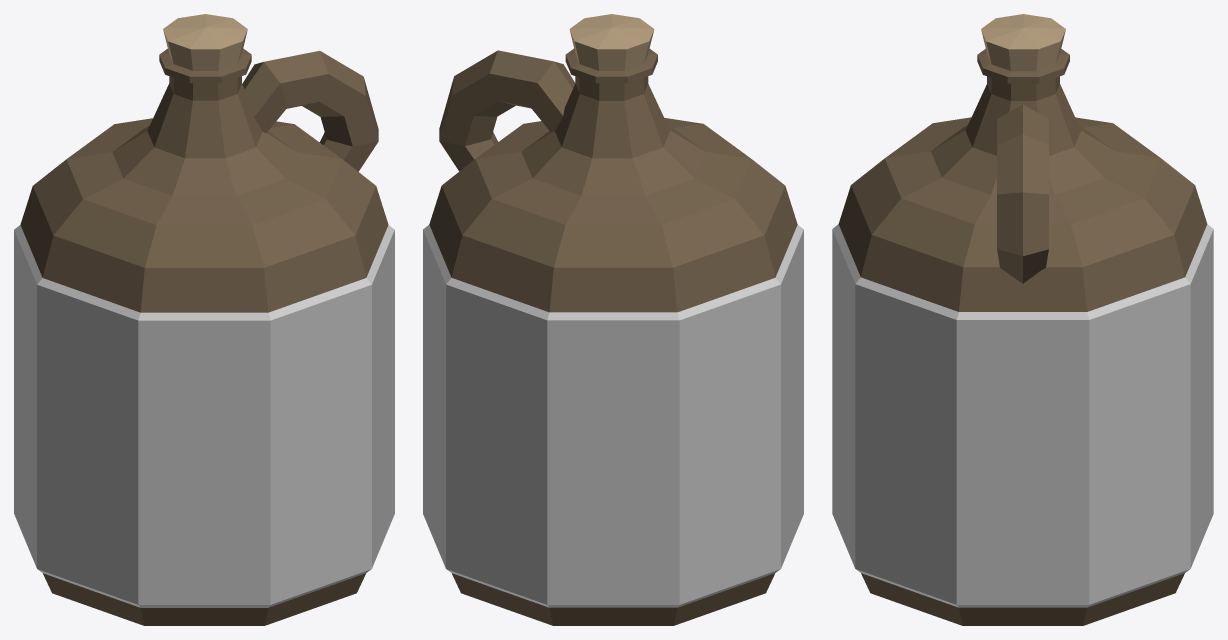
Rendered from BoozeBottle_Mesh.fbx.
3 renders of one model, left to right at view 1: azimuth 30°, elevation 25°; view 2: azimuth 150°, elevation 25°; view 3: azimuth 270°, elevation 25°, orthographic.
Parts seen in each view (by area): view 1: MoonshineBottle; view 2: MoonshineBottle; view 3: MoonshineBottle.
Part boxes in pixels (x1,y1,x2,y2): MoonshineBottle: [14, 14, 394, 625]; MoonshineBottle: [423, 14, 803, 625]; MoonshineBottle: [832, 14, 1213, 625].
Bounding box in the file's own units: 26.38 × 39.65 × 25.46.
